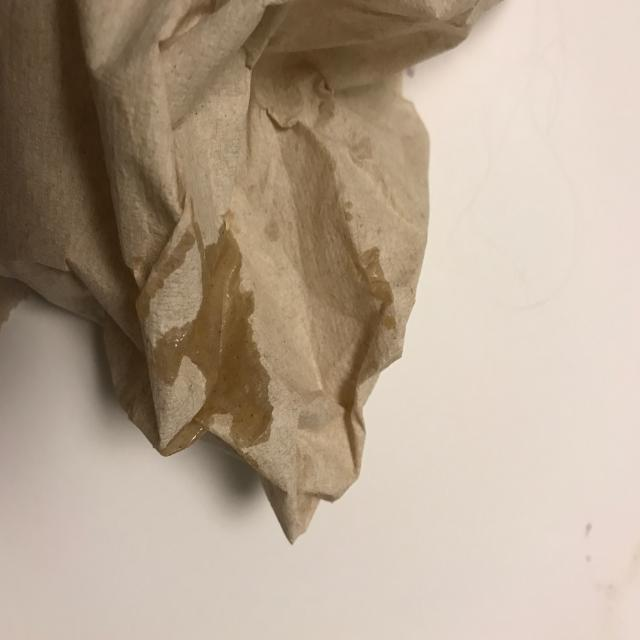trash: (0, 0, 530, 545)
